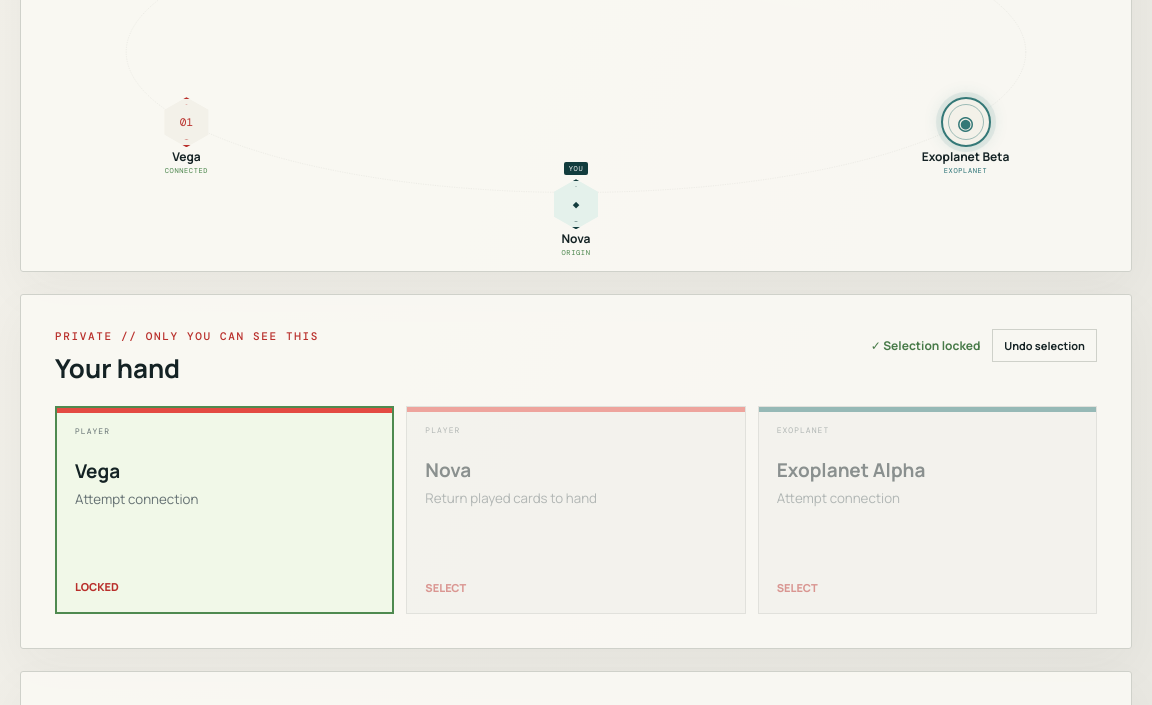
Test case: player app › keeps a locked choice and reports an undo rejection
(page scrolled)
What coordinates should you click on to do the following:
click the button "Undo selection"
I would click on:
 (1045, 346)
Its box is [992, 329, 1097, 362].
(page scrolled)
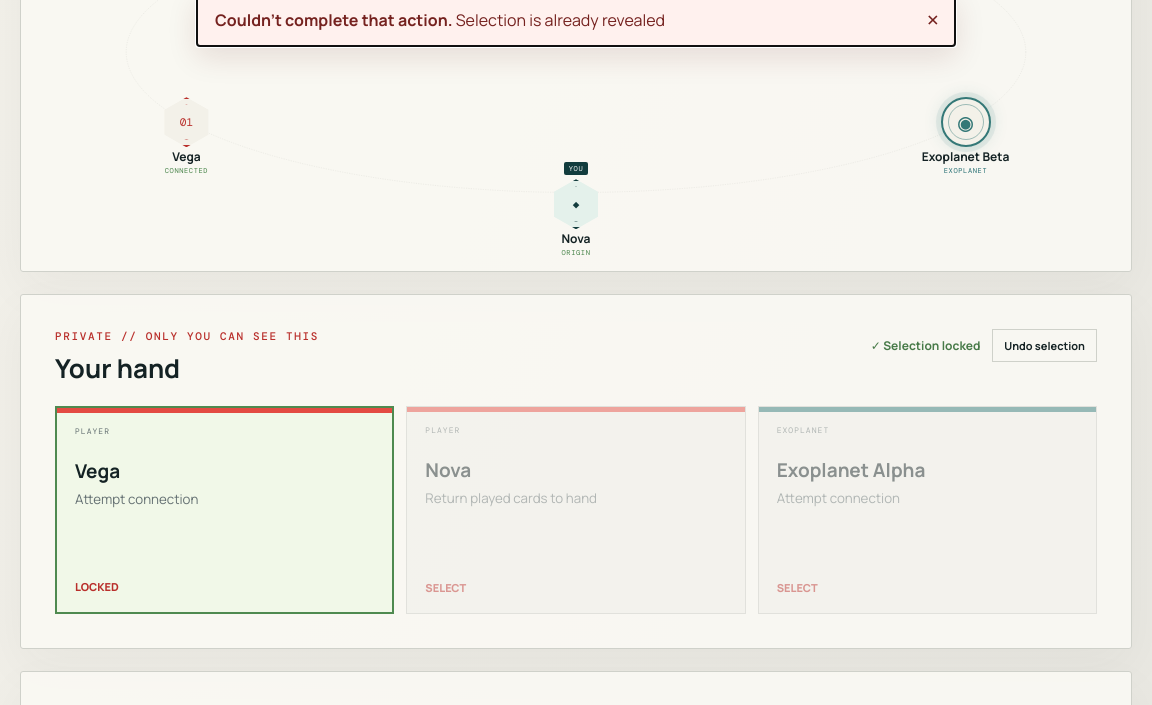
Expected: the text "✓ Selection locked" is shown, [871, 337, 980, 354]
Expected: the message shows "Selection is already revealed", [456, 9, 665, 31]
